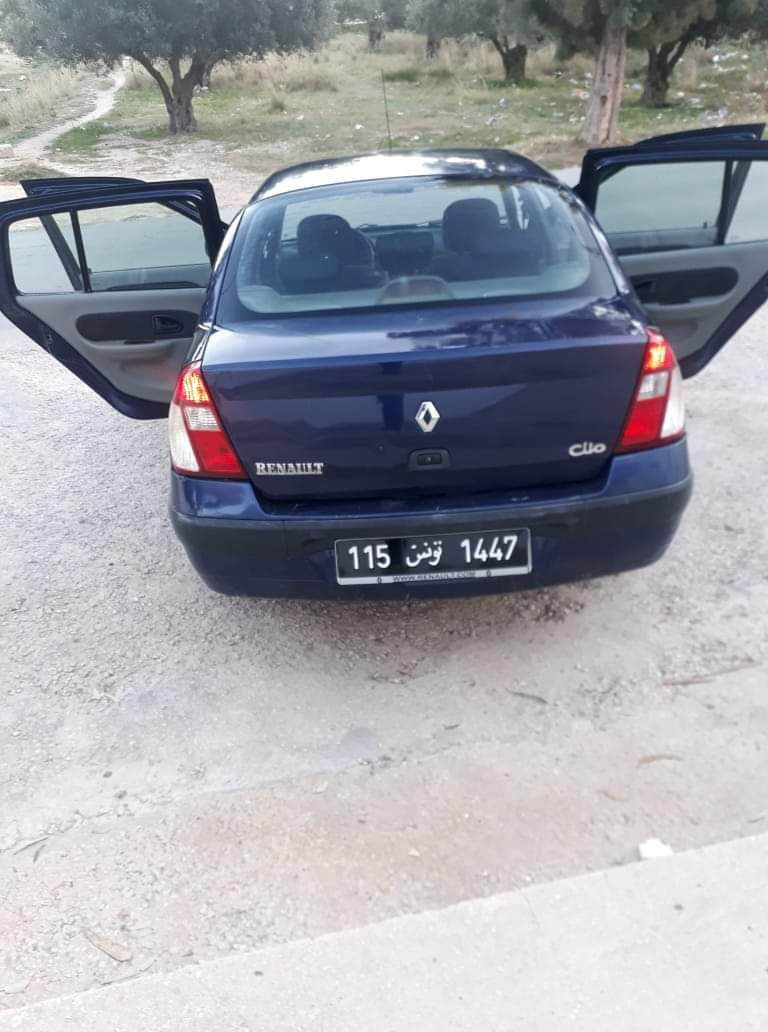LP: (332, 526, 535, 576)
